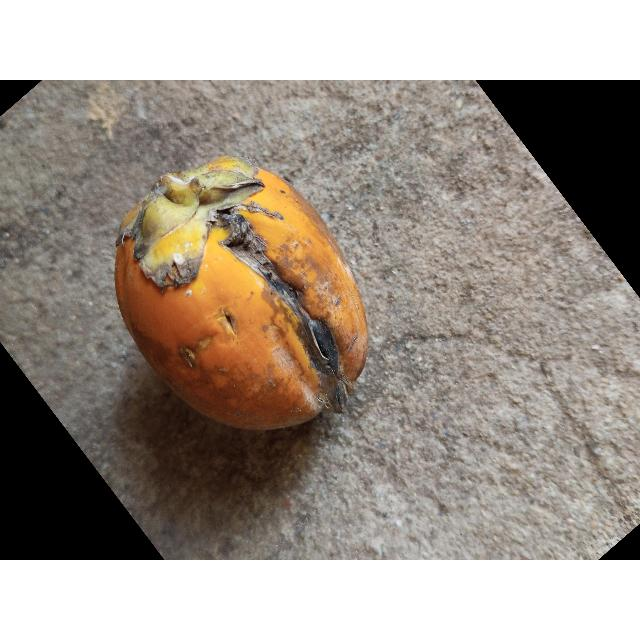damaged: (115, 156, 368, 429)
